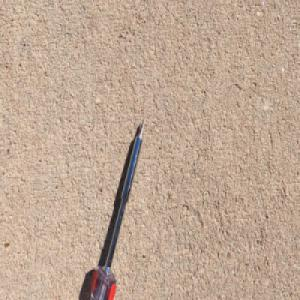Screwdriver: (85, 116, 147, 300)
